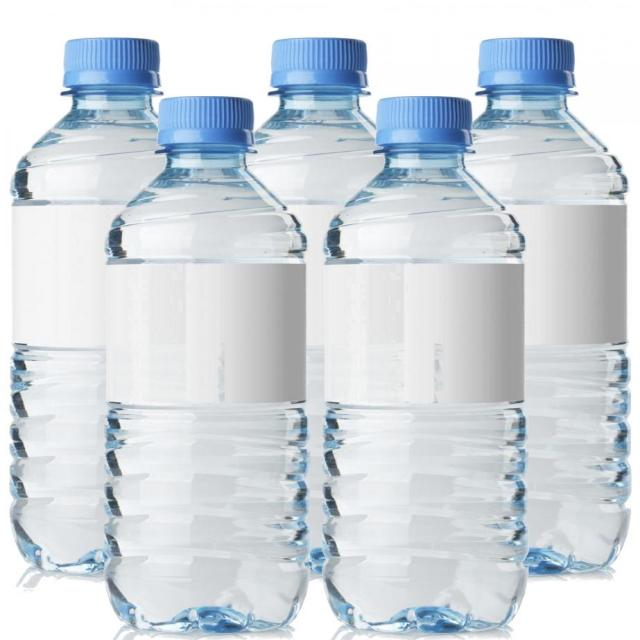bottle: (302, 79, 544, 637), (80, 63, 310, 615)
